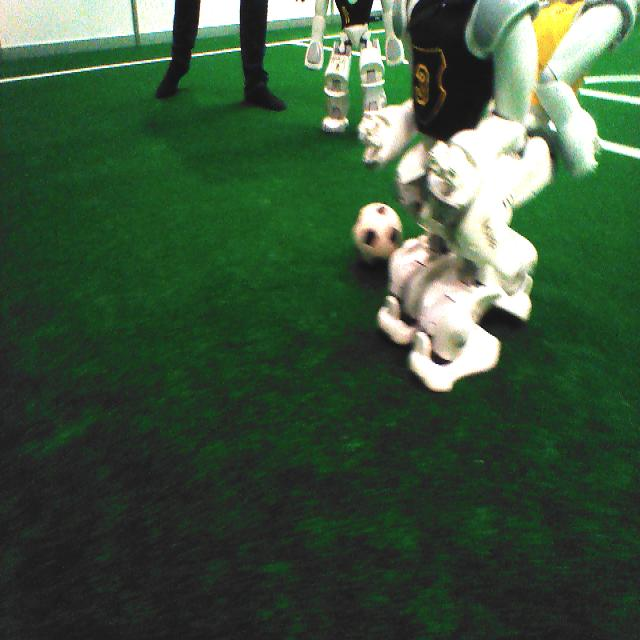ball: (351, 200, 406, 272)
